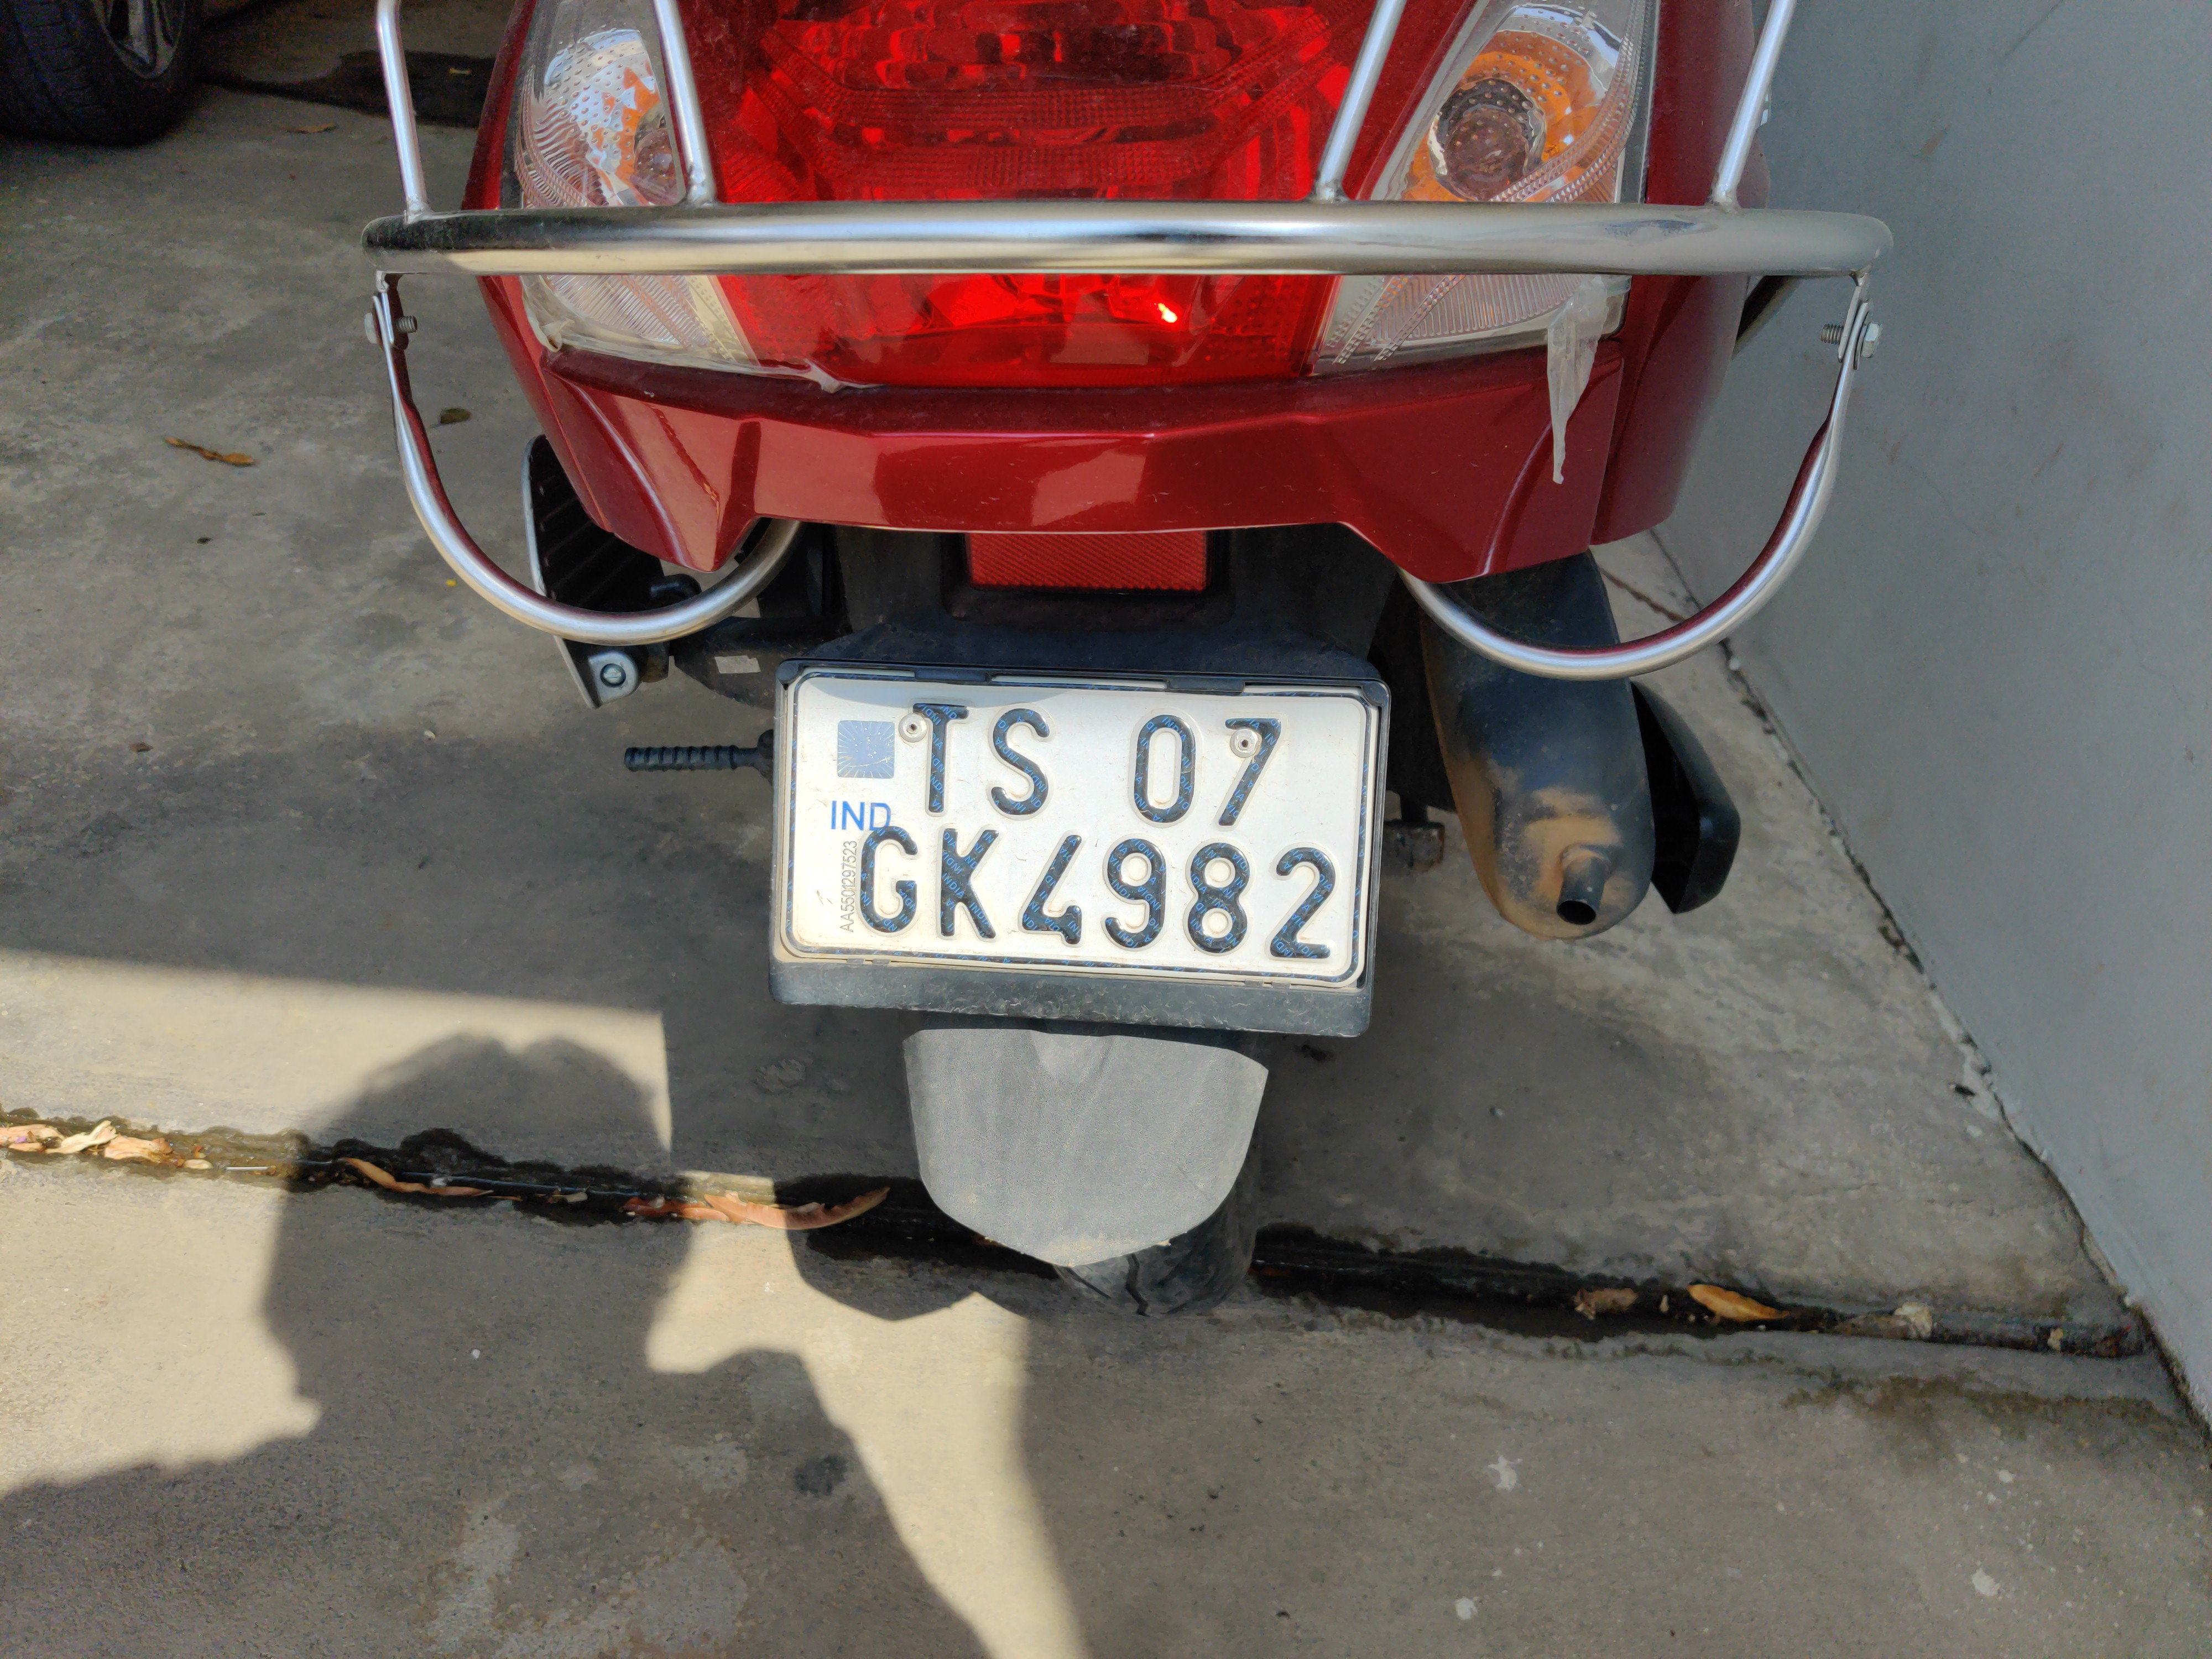plate: (755, 644, 1418, 1070)
